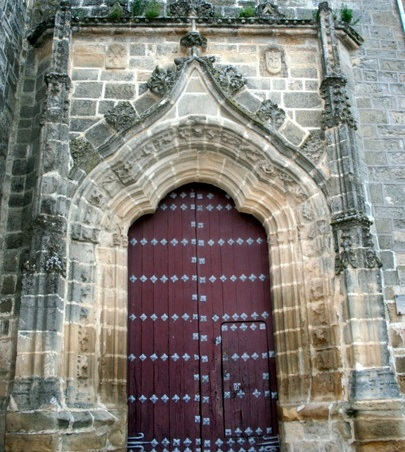arco-trilobulado: (119, 171, 280, 245)
